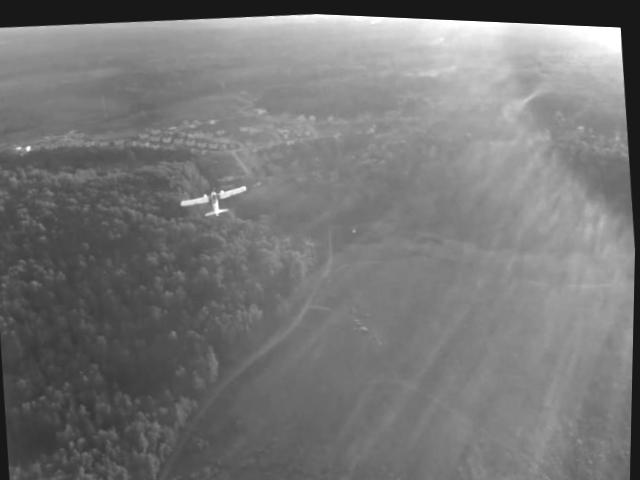hedef: (169, 165, 266, 227)
